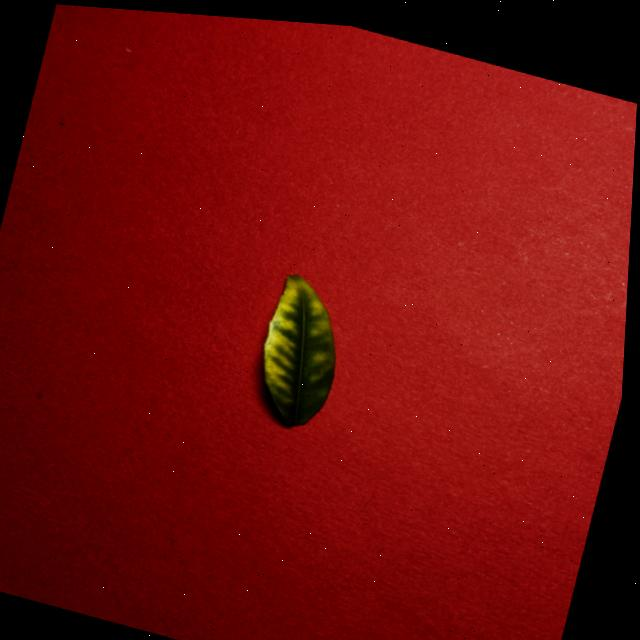greening: (263, 275, 335, 425)
